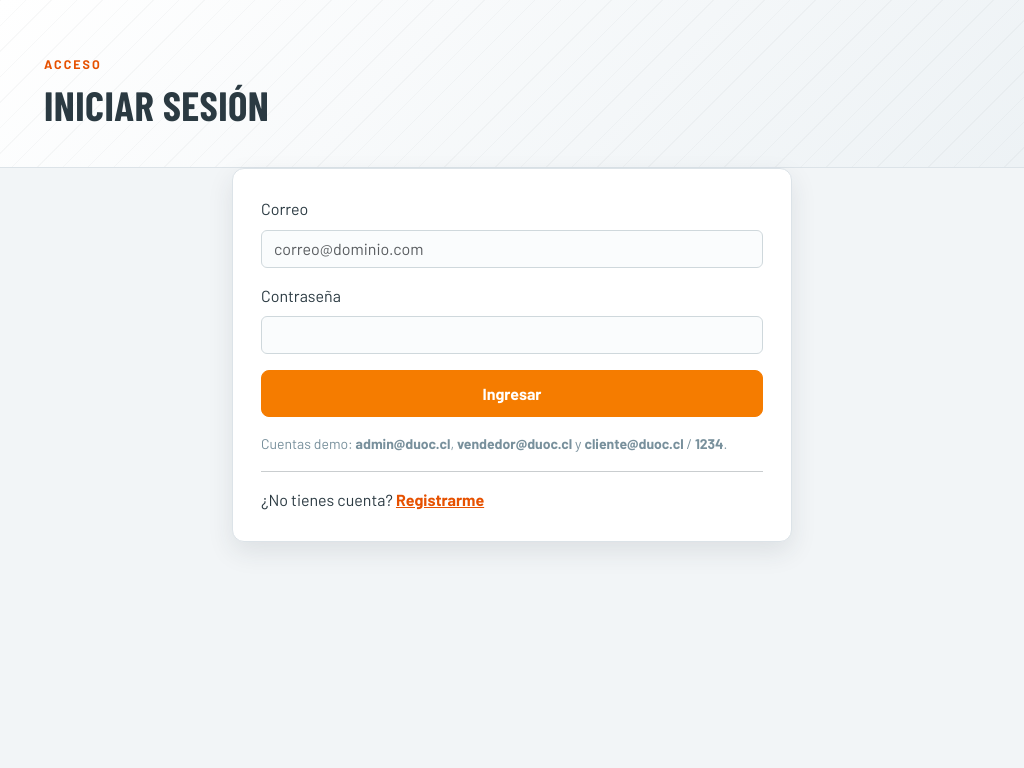
Test: Inicio de sesión › guarda el token devuelto por la API cuando las credenciales son válidas
The width and height of the screenshot is (1024, 768).
Type "maria@duoc.cl" into the field labelled "Correo".
click(512, 248); type("maria@duoc.cl")  # box x1=261 y1=230 x2=763 y2=268
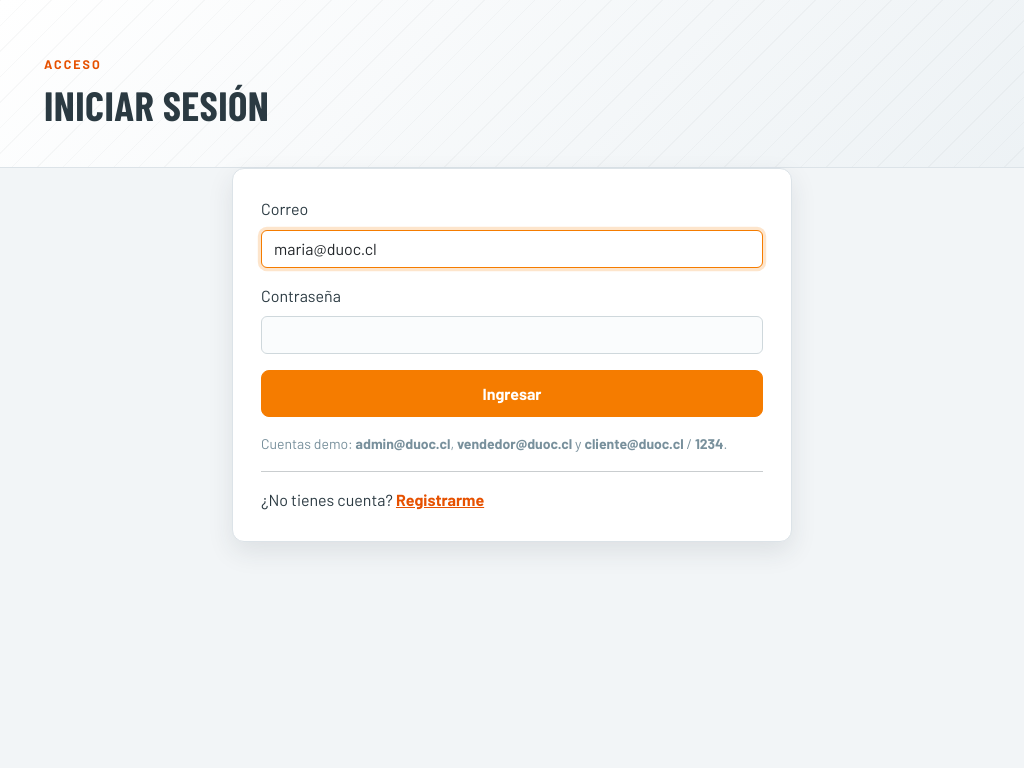
Type "1234" into the password field labelled "Contraseña".
click(512, 335); type("1234")  # box x1=261 y1=316 x2=763 y2=354
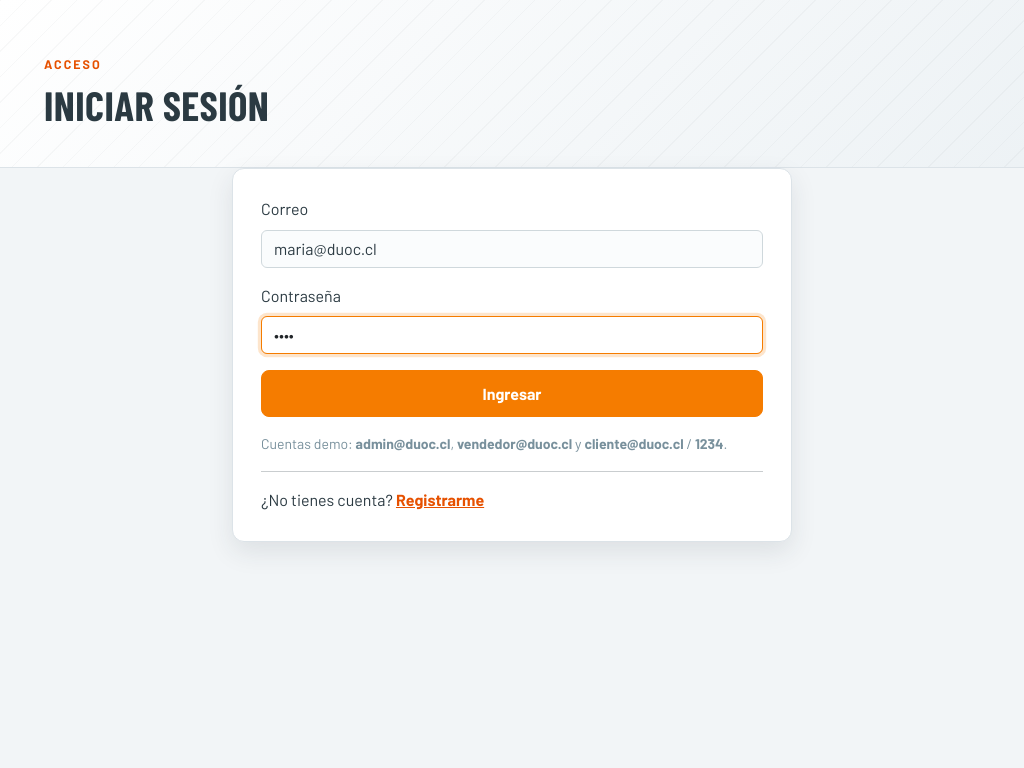
Click the button "Ingresar".
click(512, 394)  # box x1=261 y1=370 x2=763 y2=417
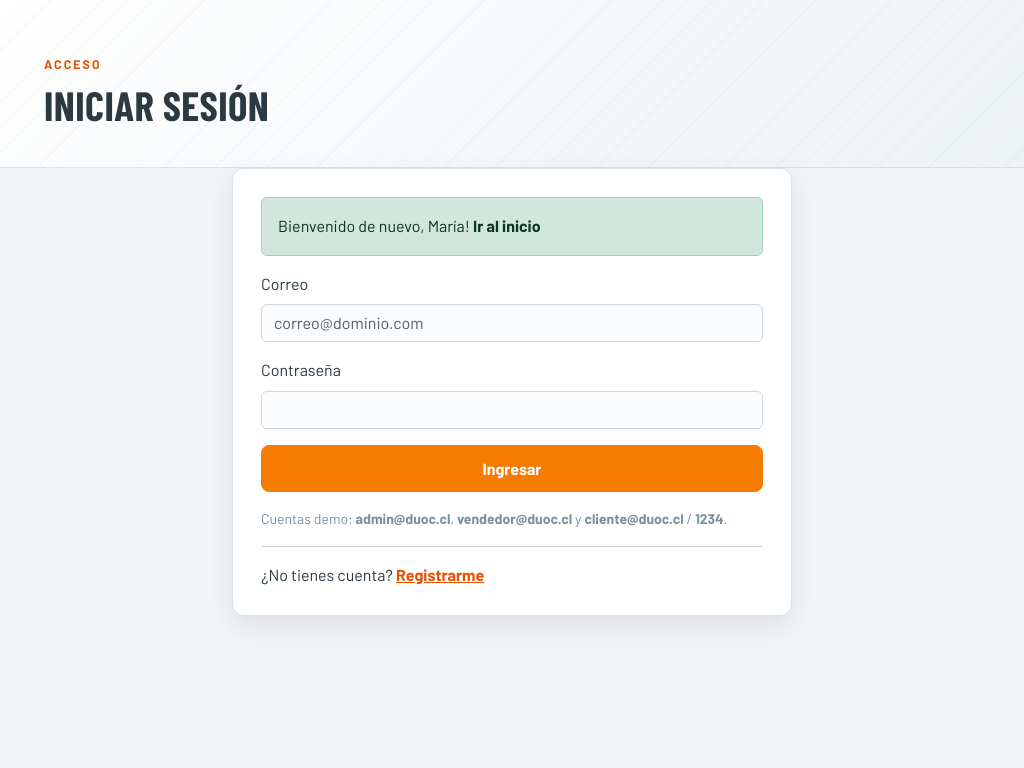
Result: the text "Bienvenido de nuevo, María! Ir al inicio" is shown at x1=261 y1=197 x2=763 y2=256
